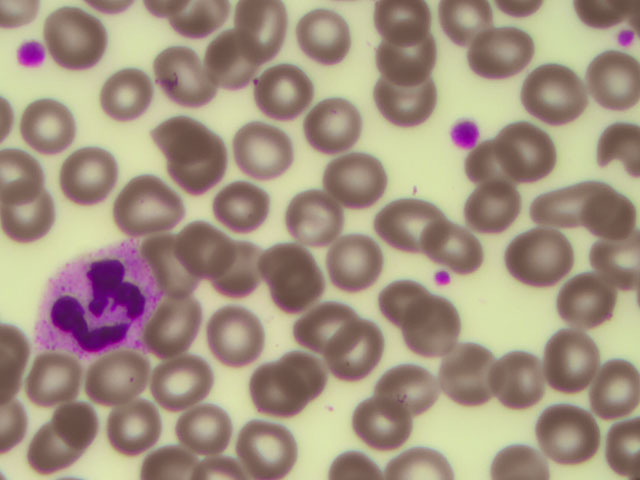Platelets: (17, 38, 47, 70), (453, 120, 477, 148), (620, 28, 634, 48), (435, 271, 448, 288)
RBC: (485, 418, 542, 480), (250, 418, 307, 480), (49, 10, 106, 71), (98, 65, 155, 126), (20, 95, 77, 156), (1, 184, 58, 245), (57, 145, 114, 206), (121, 177, 178, 238), (163, 120, 220, 181), (155, 50, 212, 111), (207, 32, 264, 93), (235, 3, 292, 64), (259, 61, 316, 122), (300, 7, 357, 68), (302, 101, 359, 162), (221, 124, 278, 185), (216, 183, 273, 244), (165, 146, 222, 207), (168, 217, 225, 278), (157, 240, 214, 301), (148, 296, 205, 357), (93, 357, 150, 418), (23, 349, 80, 410), (38, 407, 95, 468), (122, 401, 179, 462), (158, 346, 215, 407), (202, 305, 259, 366), (220, 242, 277, 303), (256, 246, 313, 307), (291, 186, 348, 247), (326, 149, 383, 210), (332, 232, 389, 293), (367, 199, 424, 260), (431, 220, 488, 281), (466, 185, 523, 246), (471, 147, 528, 208), (507, 122, 564, 183), (519, 55, 576, 116), (481, 29, 538, 90), (386, 23, 443, 84), (377, 11, 434, 72), (385, 81, 442, 142), (583, 51, 640, 112), (583, 128, 640, 189), (583, 191, 640, 252), (521, 177, 578, 238), (515, 227, 572, 288), (557, 262, 614, 323), (583, 233, 640, 294), (551, 322, 608, 383), (583, 361, 640, 422), (538, 404, 595, 465), (495, 351, 552, 412), (450, 344, 507, 405), (400, 294, 457, 355), (370, 262, 427, 323), (333, 329, 390, 390), (307, 301, 364, 362), (281, 355, 338, 416), (242, 361, 299, 422), (185, 393, 242, 454), (345, 389, 402, 450), (385, 352, 442, 413), (382, 445, 457, 480)
WBC: (30, 245, 158, 356)
